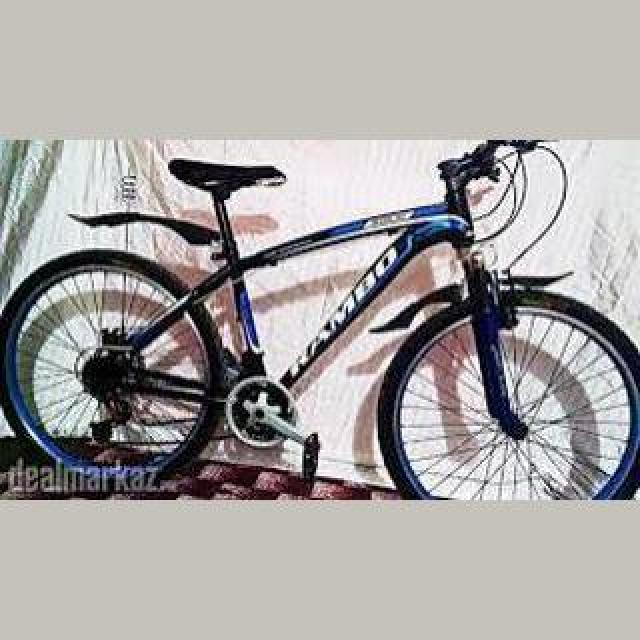Person: (0, 144, 640, 500)
